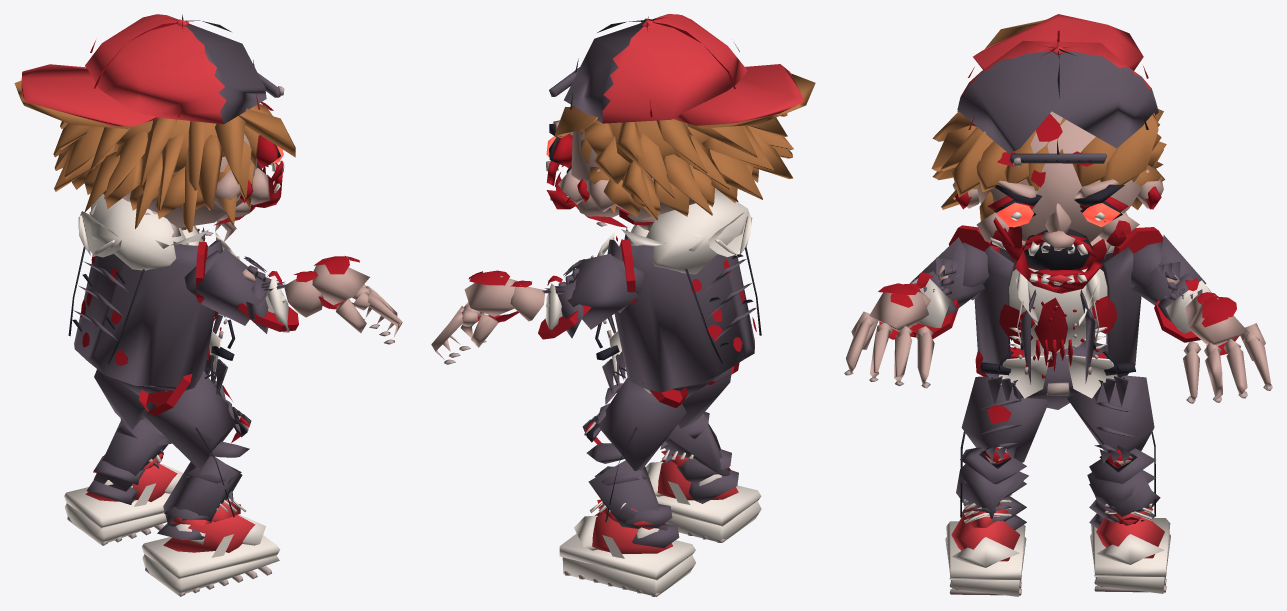
3 renders of one model, left to right at view 1: azimuth 30°, elevation 25°; view 2: azimuth 150°, elevation 25°; view 3: azimuth 270°, elevation 25°, orthographic.
Visible parts, largest first — view 1: head, torso, footR, footL, legR, shinR, shinL, handR, armR, foreArmR, legL, stump_legR (+1 smaller); view 2: head, torso, footL, footR, legL, shinL, shinR, armL, handL, foreArmL, legR, stump_foreArmL (+1 smaller); view 3: head, torso, footR, footL, handL, handR, legR, legL, shinR, shinL, armL, armR (+5 smaller).
Boxes of the visible parts, left/top/right/bottom form: head: left=14, top=14, right=295, bottom=232; torso: left=68, top=193, right=239, bottom=394; footR: left=141, top=497, right=280, bottom=596; footL: left=64, top=453, right=183, bottom=545; legR: left=142, top=371, right=251, bottom=517; shinR: left=157, top=441, right=249, bottom=544; shinL: left=86, top=417, right=171, bottom=504; handR: left=312, top=256, right=402, bottom=344; armR: left=184, top=248, right=271, bottom=325; foreArmR: left=246, top=271, right=323, bottom=333; legL: left=94, top=369, right=145, bottom=429; stump_legR: left=139, top=374, right=192, bottom=416; head: left=546, top=14, right=815, bottom=229; torso: left=590, top=188, right=761, bottom=394; footL: left=559, top=501, right=695, bottom=596; footR: left=645, top=449, right=761, bottom=542; legL: left=582, top=377, right=686, bottom=521; shinL: left=586, top=443, right=679, bottom=548; shinR: left=660, top=412, right=738, bottom=503; armL: left=558, top=253, right=644, bottom=329; handL: left=431, top=270, right=519, bottom=364; foreArmL: left=510, top=275, right=583, bottom=338; legR: left=678, top=367, right=732, bottom=428; stump_foreArmL: left=538, top=302, right=591, bottom=339; head: left=931, top=14, right=1166, bottom=293; torso: left=974, top=212, right=1141, bottom=406; footR: left=945, top=494, right=1026, bottom=596; footL: left=1090, top=503, right=1170, bottom=593; handL: left=1183, top=296, right=1272, bottom=403; handR: left=844, top=283, right=934, bottom=388; legR: left=960, top=376, right=1048, bottom=517; legL: left=1067, top=375, right=1155, bottom=515; shinR: left=956, top=447, right=1028, bottom=529; shinL: left=1087, top=448, right=1160, bottom=528; armL: left=1131, top=235, right=1206, bottom=305; armR: left=910, top=237, right=989, bottom=307.
Size of the model in its own units: 0.9556 by 1.66 by 1.22.
